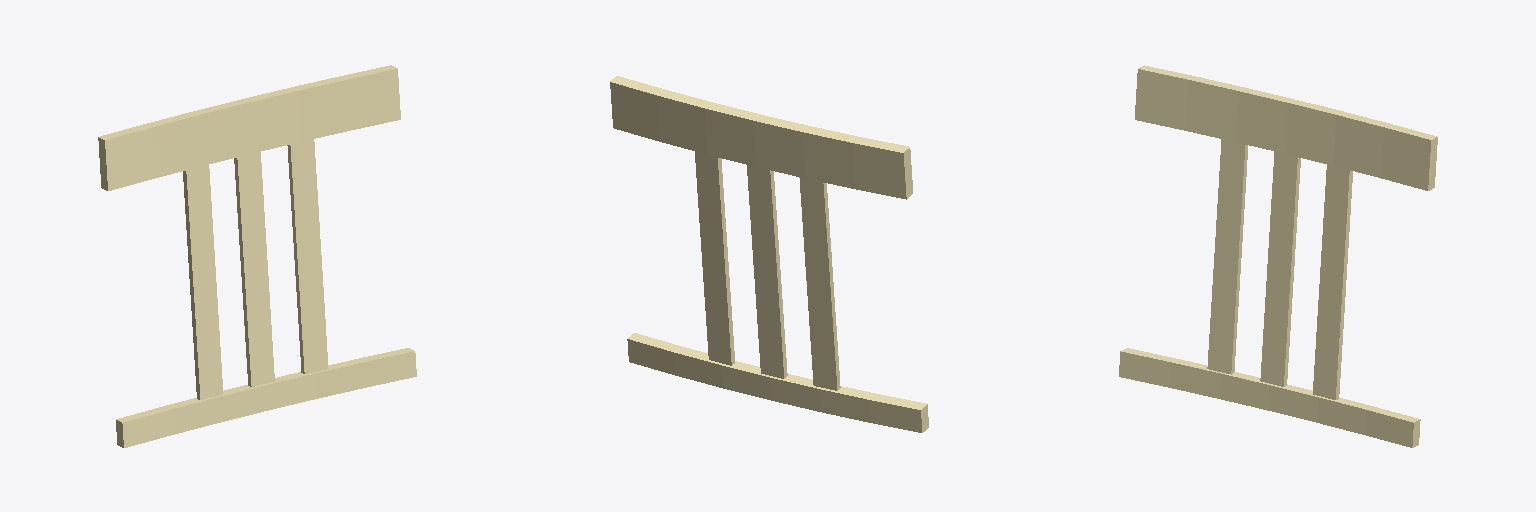
File: back.obj
3 renders of one model, left to right at view 1: azimuth 30°, elevation 25°; view 2: azimuth 150°, elevation 25°; view 3: azimuth 330°, elevation 25°, orthographic.
Visible parts, largest first — view 1: back; view 2: back; view 3: back.
Part boxes in pixels (left/top/right/bottom): back: left=98, top=65, right=416, bottom=447; back: left=610, top=76, right=928, bottom=432; back: left=1119, top=65, right=1437, bottom=447.
Size of the model in its own units: 12.5 by 12.07 by 2.16.